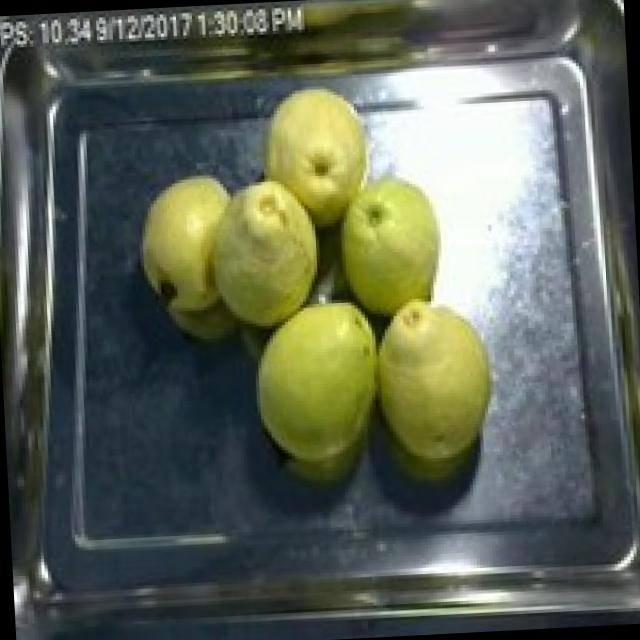Fruit: (130, 160, 337, 348), (242, 288, 386, 481), (370, 288, 508, 484), (322, 162, 458, 338), (247, 70, 386, 240)
